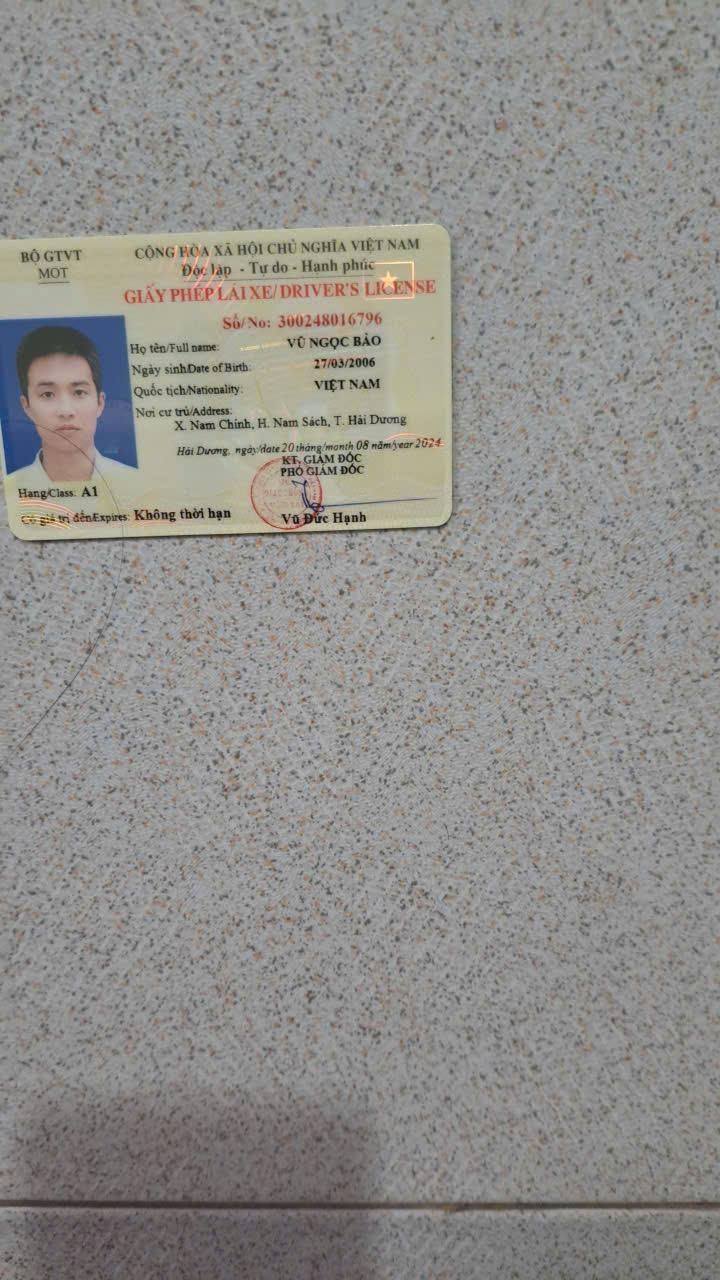gplx: (0, 217, 455, 548)
